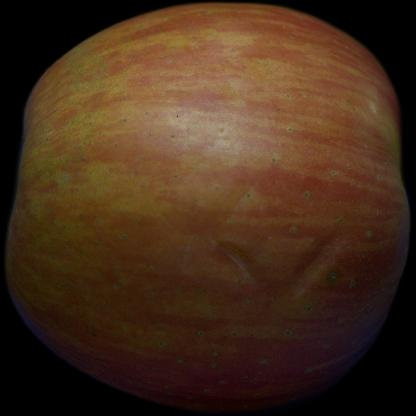defect: (198, 227, 360, 297)
